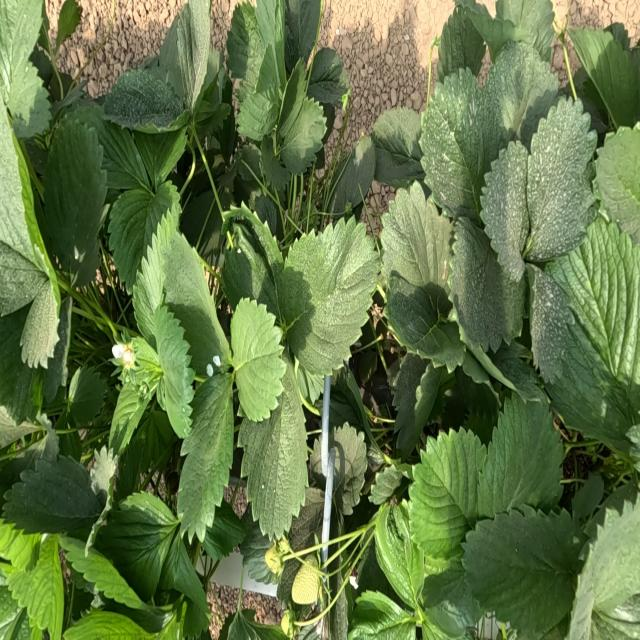Flowers: (112, 343, 134, 366)
Leaves: (546, 216, 640, 450), (464, 508, 583, 638), (280, 220, 378, 377), (240, 365, 307, 539), (527, 100, 596, 262), (480, 396, 563, 516), (43, 119, 106, 276), (410, 430, 486, 558), (420, 70, 486, 217), (481, 42, 559, 166), (452, 218, 523, 350), (178, 375, 234, 538), (164, 237, 229, 375), (98, 492, 177, 600), (66, 103, 153, 196), (3, 456, 100, 539), (572, 502, 639, 619), (0, 91, 44, 269), (381, 183, 450, 295), (568, 28, 639, 127), (480, 142, 529, 283), (386, 278, 463, 367), (108, 185, 171, 293), (231, 299, 286, 420), (61, 540, 146, 609), (228, 209, 282, 316), (118, 403, 178, 498), (152, 307, 194, 439), (161, 1, 210, 113), (374, 500, 424, 607), (103, 65, 183, 131), (11, 537, 63, 637), (595, 126, 639, 238), (531, 271, 574, 383), (237, 43, 286, 140), (166, 533, 211, 634), (0, 0, 43, 104), (423, 559, 479, 638), (0, 60, 51, 138), (438, 3, 485, 81), (0, 311, 33, 421), (0, 241, 49, 315), (281, 97, 326, 174), (20, 280, 59, 367), (393, 355, 427, 454), (109, 379, 152, 456), (348, 591, 415, 639), (226, 1, 265, 82), (490, 343, 546, 399), (239, 504, 278, 584), (334, 137, 376, 211), (43, 297, 72, 403), (334, 424, 367, 514), (134, 130, 186, 186), (202, 499, 247, 560), (64, 608, 151, 639), (284, 0, 320, 74), (309, 48, 350, 109), (372, 107, 420, 159), (287, 488, 324, 551), (256, 1, 286, 78), (68, 367, 107, 426), (227, 610, 289, 639), (369, 463, 411, 503), (261, 137, 290, 190), (572, 474, 604, 520), (57, 0, 81, 47), (278, 560, 301, 604), (238, 145, 261, 189)
Strawberries: (292, 562, 319, 603), (266, 543, 286, 573)
